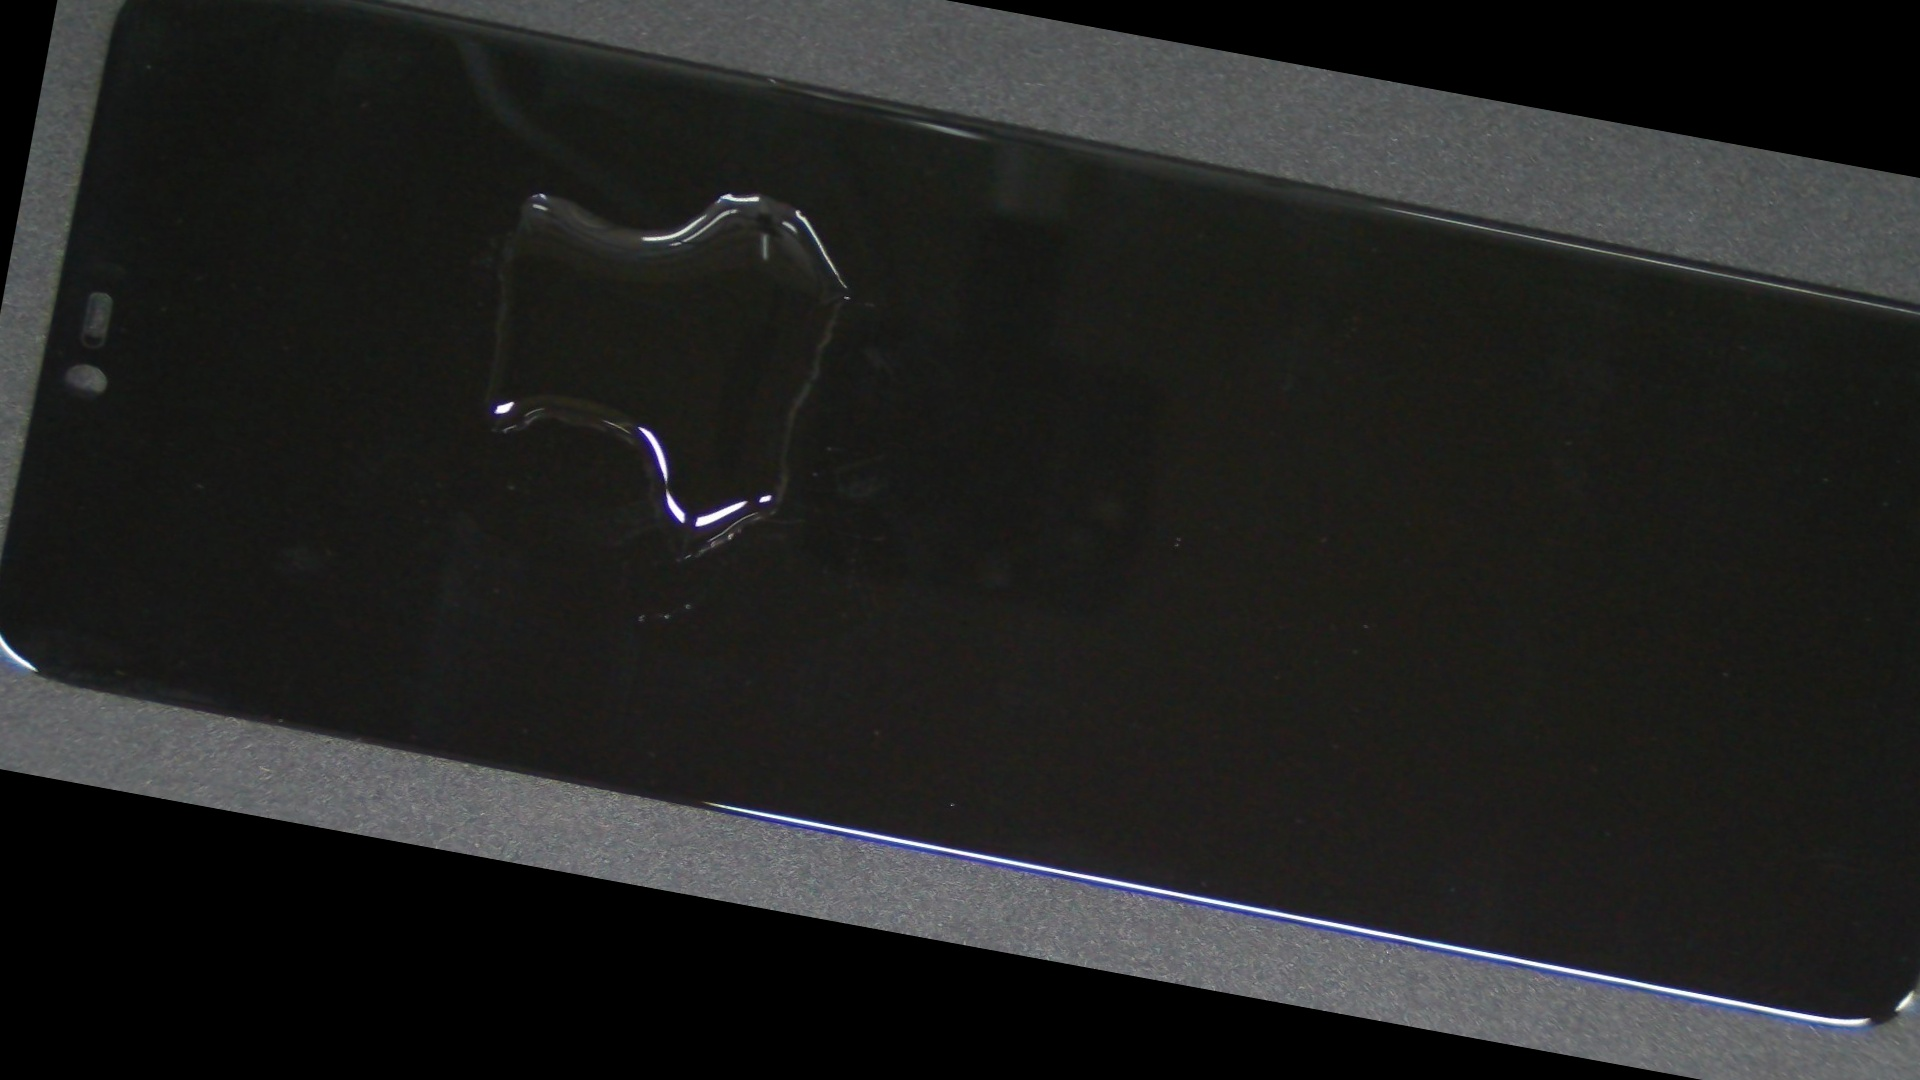oil: (382, 17, 1134, 368)
